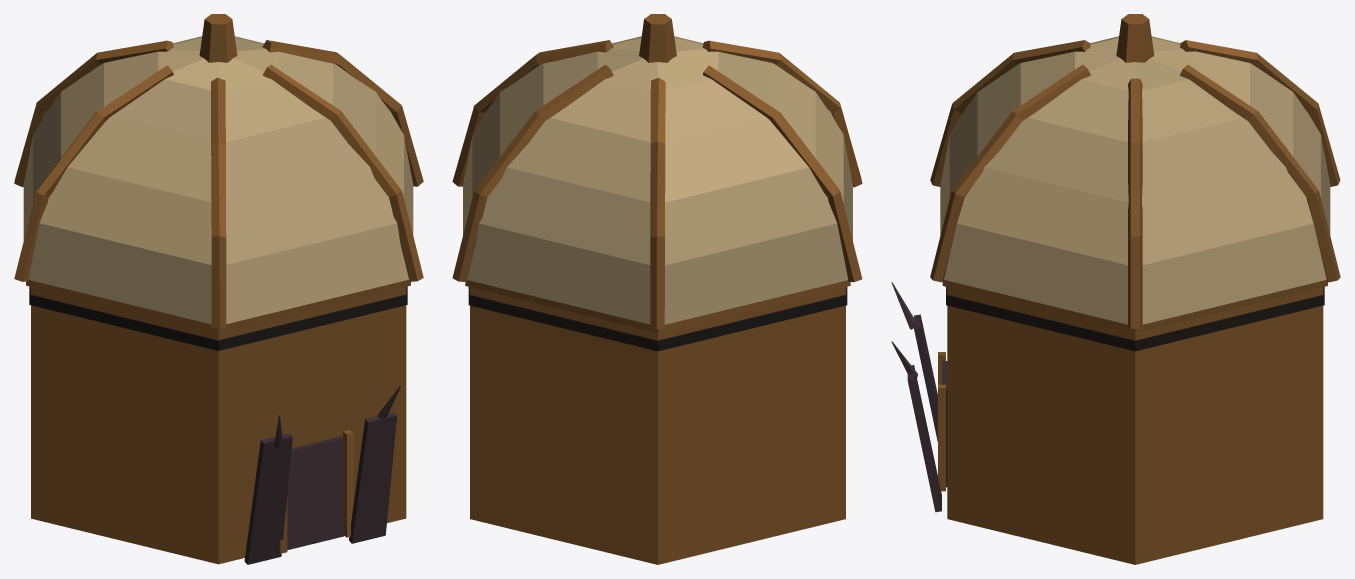
The model's file is walk_hive_tall.glb.
3 renders of one model, left to right at view 1: azimuth 30°, elevation 25°; view 2: azimuth 150°, elevation 25°; view 3: azimuth 270°, elevation 25°, orthographic.
Parts seen in each view (by area): view 1: walk_hive_tall_roof, walk_hive_tall; view 2: walk_hive_tall_roof, walk_hive_tall; view 3: walk_hive_tall_roof, walk_hive_tall.
Part boxes in pixels (bbox=[...]): walk_hive_tall_roof: bbox=[14, 14, 423, 332]; walk_hive_tall: bbox=[29, 286, 407, 564]; walk_hive_tall_roof: bbox=[452, 14, 862, 332]; walk_hive_tall: bbox=[468, 287, 847, 564]; walk_hive_tall_roof: bbox=[930, 14, 1340, 332]; walk_hive_tall: bbox=[891, 282, 1324, 564].
Size of what is drawn, in the model's own units: 8.46 by 9.13 by 8.08.
Materials: 1 (1 with a texture image).
